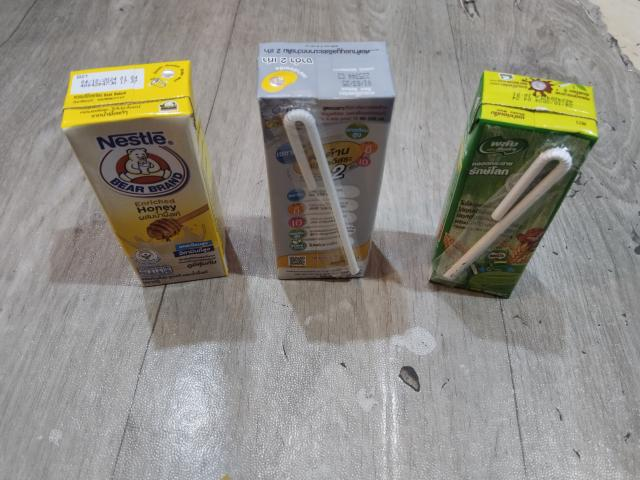drink_box: (418, 62, 615, 315), (52, 52, 244, 298), (252, 30, 401, 285)
